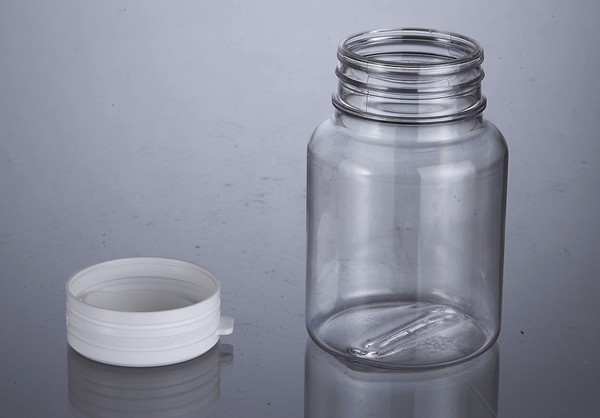medicinejar: (307, 29, 513, 370)
